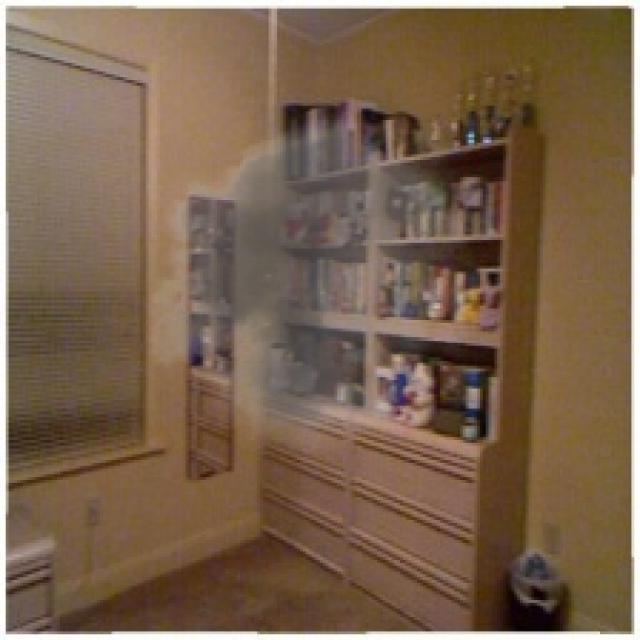Smoke: (131, 100, 506, 454)
